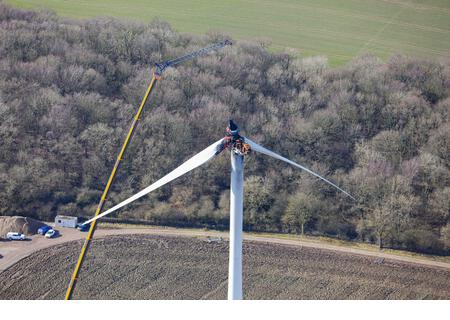faulty: (171, 122, 362, 205)
